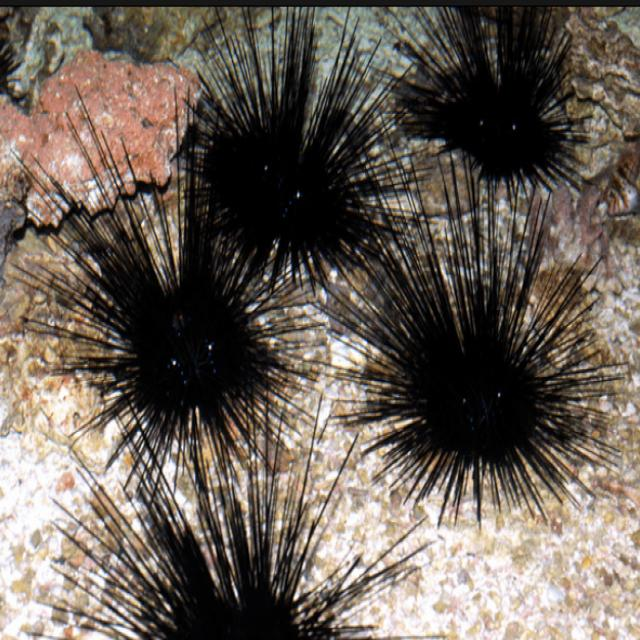Urchin: (18, 78, 302, 445), (325, 194, 623, 532), (169, 1, 413, 309), (59, 444, 408, 640), (396, 2, 595, 178)
